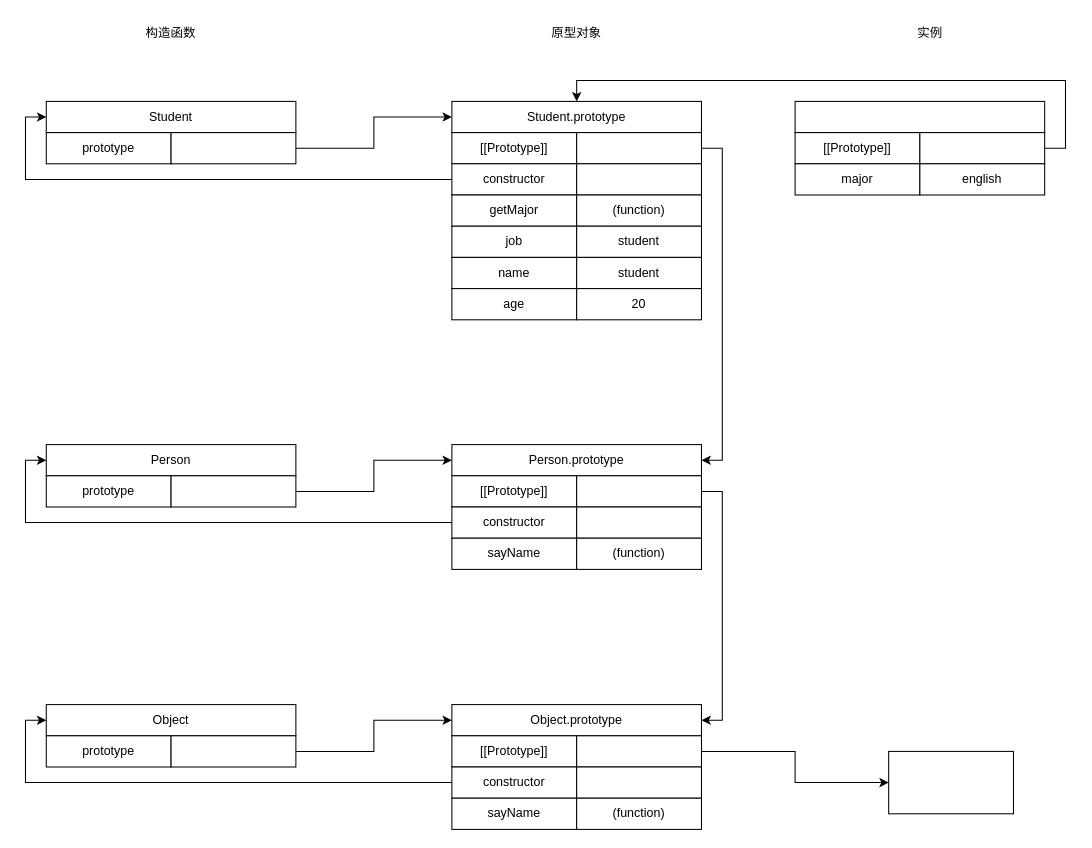
Some shapes in this 1092 by 848 pixel diagram are drawn without their labels. The centre of each missing label's shape, as x and y in pixels:
"null" belongs at point (950, 782).
"student = new Student()" belongs at point (919, 116).
